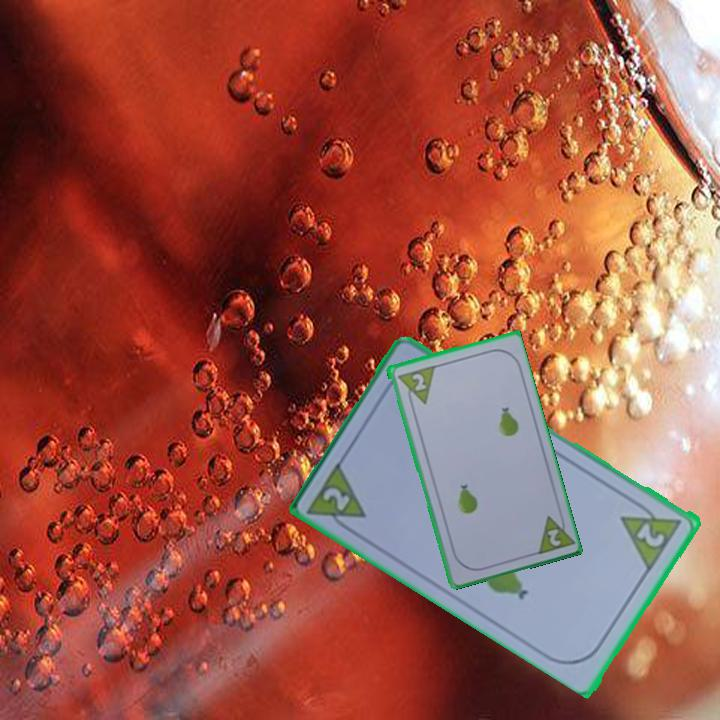2p: (305, 456, 371, 539), (618, 495, 686, 572), (393, 362, 437, 410), (543, 525, 564, 549)
